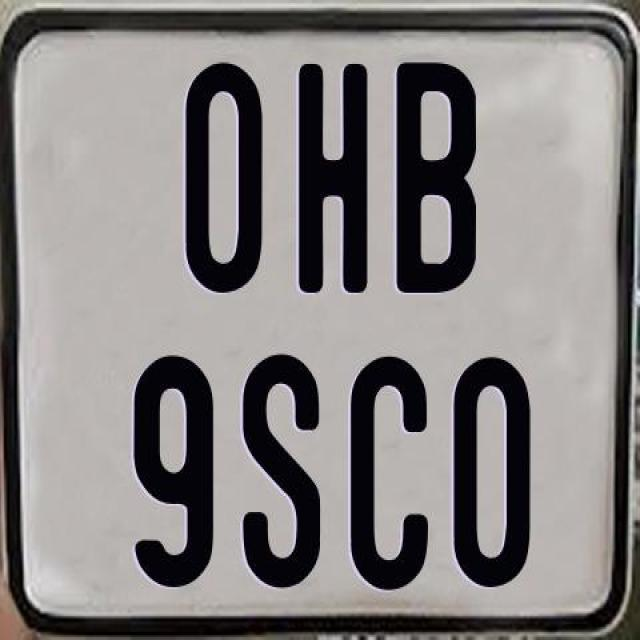0: (453, 357, 536, 592), (184, 58, 267, 292)
9: (132, 352, 216, 592)
B: (393, 59, 478, 298)
C: (347, 355, 425, 595)
H: (297, 64, 368, 299)
S: (240, 348, 320, 582)
